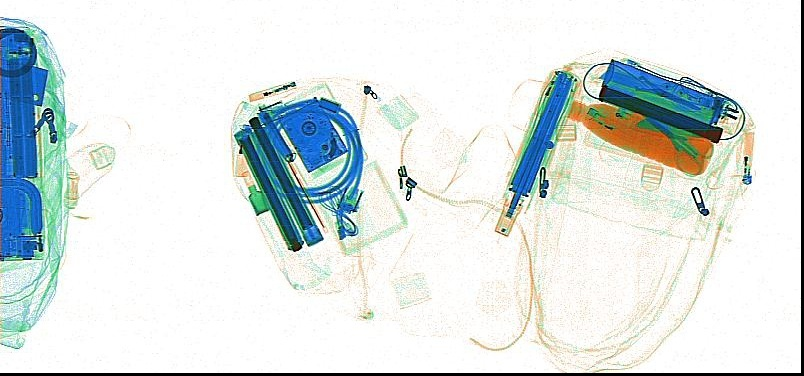knife: (254, 109, 298, 162), (595, 70, 659, 94)
lighter: (584, 105, 627, 137), (247, 80, 297, 102), (233, 122, 252, 177), (741, 130, 754, 184)
nailpolish: (239, 167, 271, 215)
pressure: (601, 57, 743, 135)
scissors: (638, 106, 714, 176), (608, 57, 702, 110)
